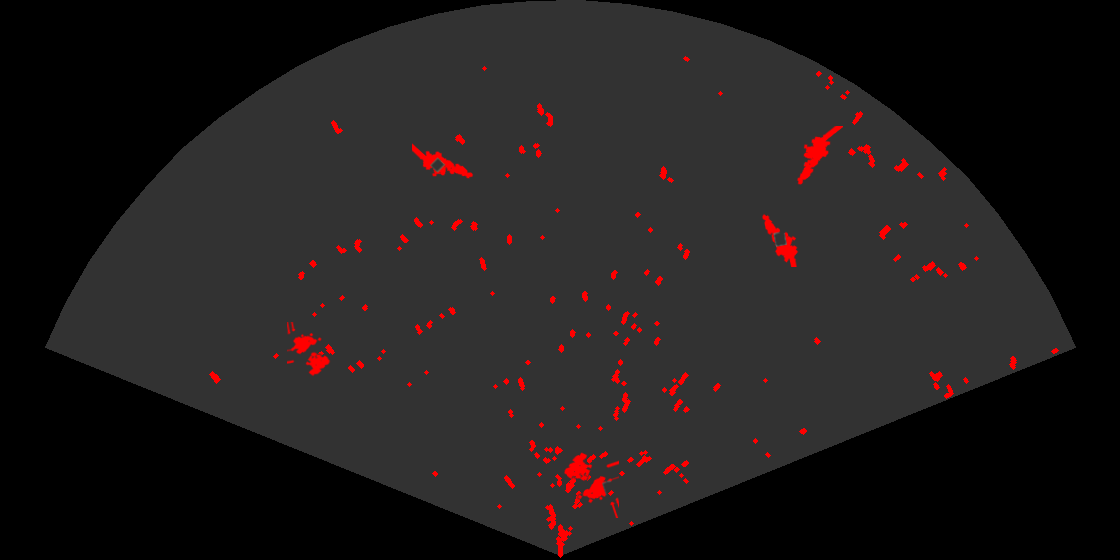cage: (562, 451, 619, 518), (287, 322, 332, 378)
frogman: (795, 126, 843, 186), (412, 142, 475, 180), (761, 212, 800, 267)
